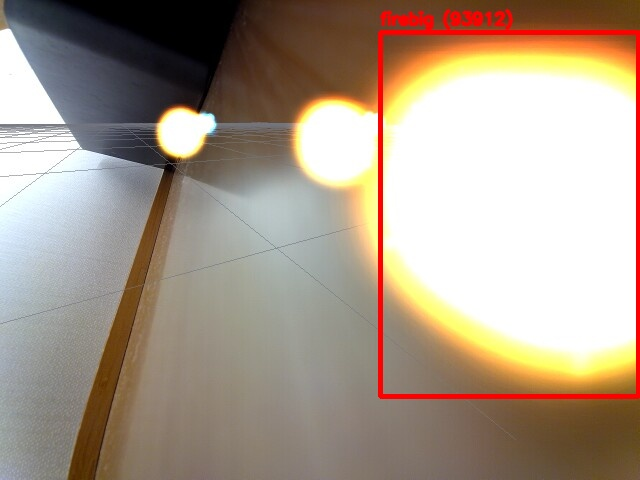firebig: (380, 32, 638, 396)
